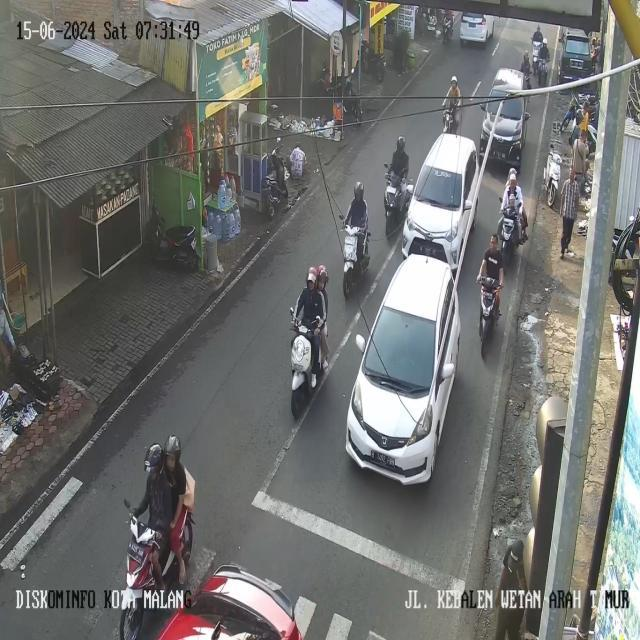Helmet: (144, 443, 163, 471), (164, 434, 180, 462), (509, 540, 523, 562), (317, 265, 328, 284), (306, 267, 317, 283), (354, 181, 363, 199), (508, 168, 517, 180), (397, 136, 404, 150), (450, 75, 458, 84), (524, 51, 528, 58), (543, 37, 547, 44), (537, 25, 540, 31)
Number Plate: (127, 540, 144, 563), (371, 450, 394, 465)
Rearview Mirror: (442, 363, 454, 379), (355, 334, 365, 352), (464, 199, 472, 210), (123, 499, 130, 508), (407, 184, 413, 194), (480, 103, 486, 111), (289, 307, 293, 316), (524, 112, 529, 119), (276, 137, 281, 144), (339, 214, 344, 220), (384, 163, 388, 168), (498, 196, 501, 202)
